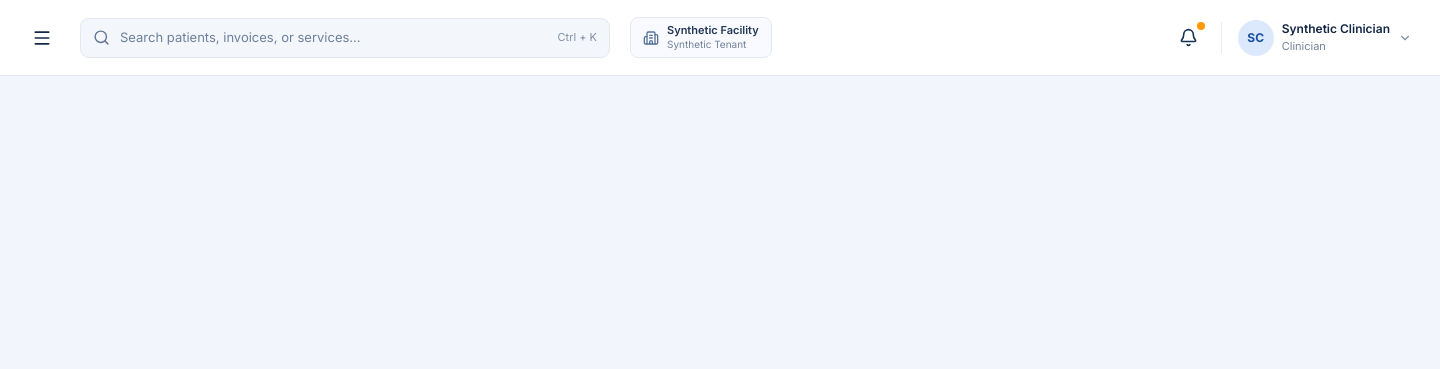
Scenario: hospital dashboard behavior › retains the real profile fields and closes the menu on an outside click
The image size is (1440, 369).
Click the button "SC Synthetic Clinician Clinician" at (1325, 38), box [1234,16,1416,60]
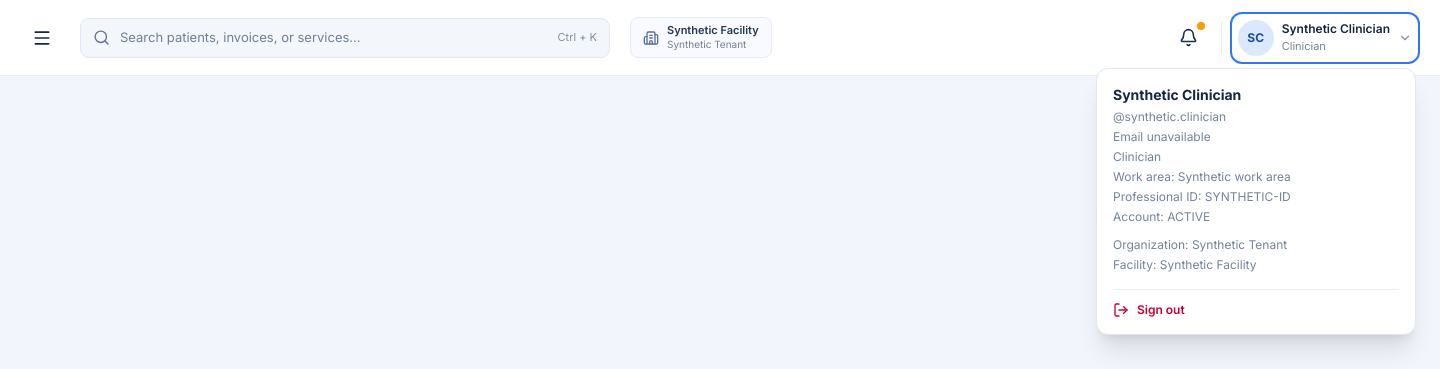
Now the text "@synthetic.clinician" is shown, box [1113,108,1226,124]
Now the text "Account: ACTIVE" is shown, box [1113,208,1210,224]
Now the text "Work area: Synthetic work area" is shown, box [1113,168,1291,184]
Click the element that starts with "Ctrl + K" at (720, 38), box [0,0,1439,76]
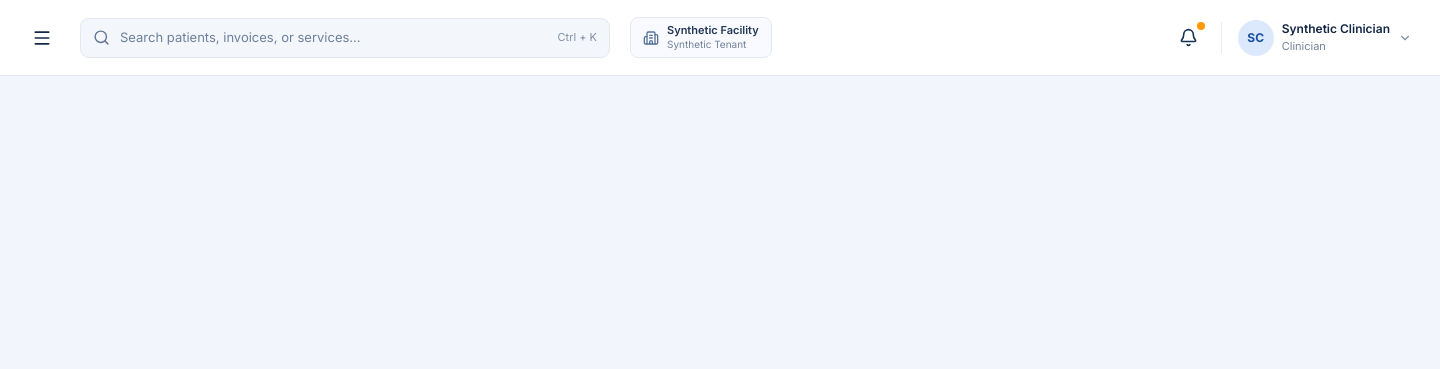
Now the menu is gone
